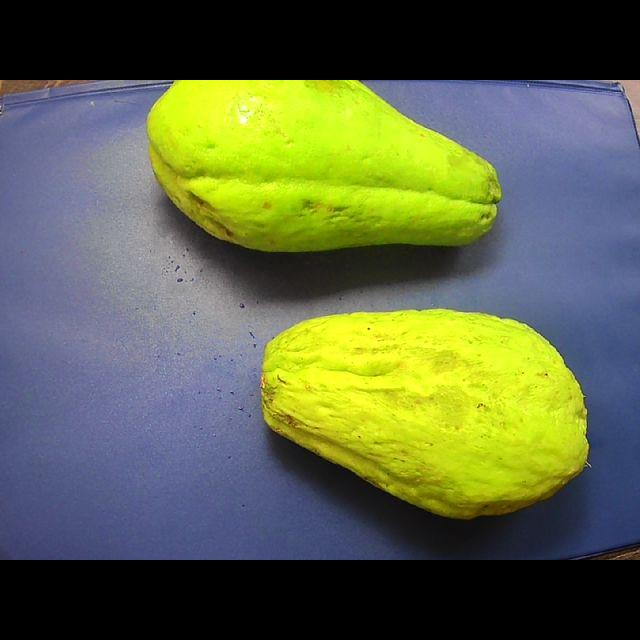chayote: (262, 309, 586, 518), (148, 80, 501, 252)
